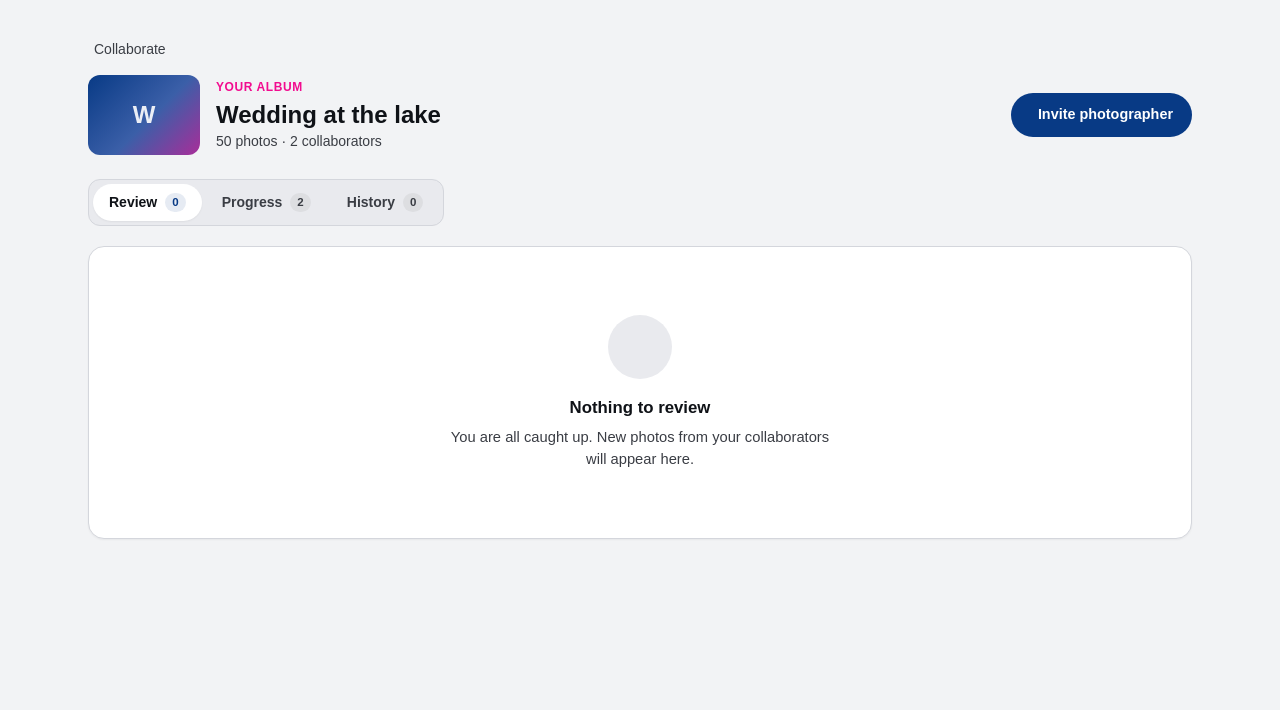
Test: when there is nothing to track yet › says nobody has submitted yet when collaborators have joined
The width and height of the screenshot is (1280, 710).
Click the tab "Progress 2".
click(266, 202)  # box [206, 184, 327, 221]
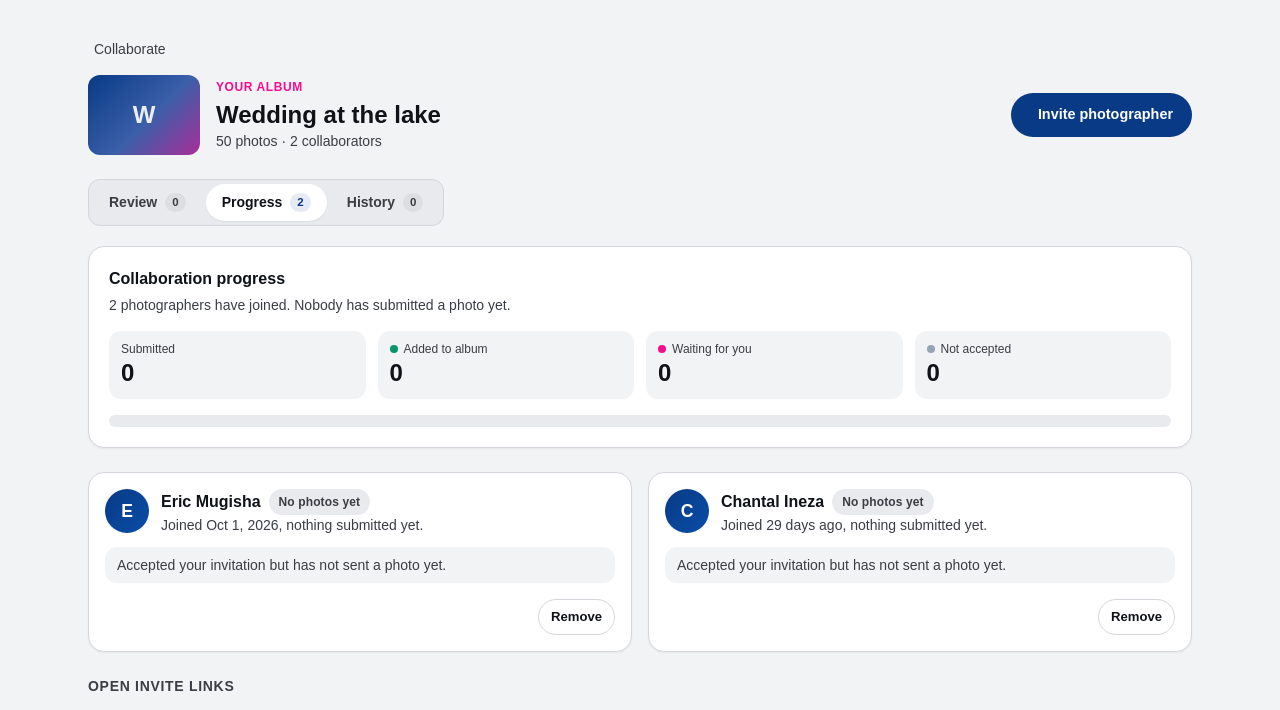
Result: the element with test id "progress-summary" shows "2 photographers have joined. Nobody has submitted a photo yet." at [109, 297, 511, 313]
